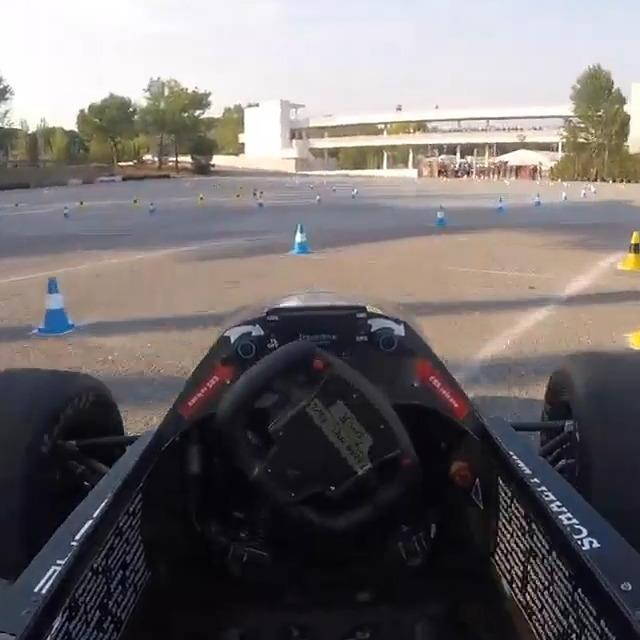Safety Cone: (26, 273, 80, 343), (287, 218, 315, 258), (617, 231, 640, 278), (432, 202, 449, 232), (494, 195, 506, 219), (61, 204, 71, 222), (149, 201, 158, 219), (197, 192, 207, 208), (532, 194, 542, 209)
vehicle: (0, 292, 640, 640)
